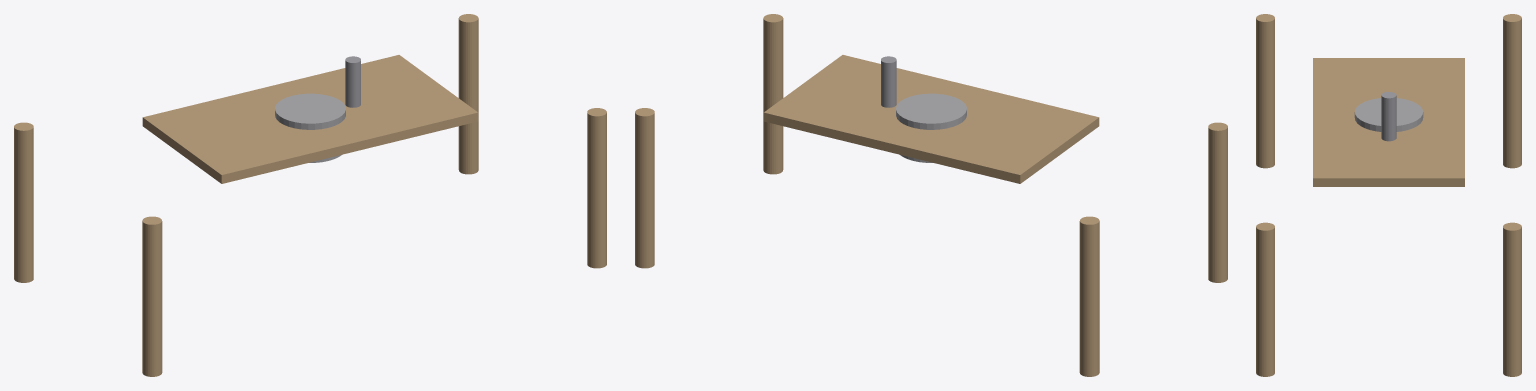
The model's file is mortar_pestle.glb.
3 views of the same model, side by side, from view 1: azimuth 30°, elevation 25°; view 2: azimuth 150°, elevation 25°; view 3: azimuth 270°, elevation 25° (orthographic). The views are drawn at different scales.
Parts seen in each view (by area): view 1: bench_top, bench_leg_-1.3_-0.65, bench_leg_1.3_-0.65, bench_leg_-1.3_0.65, bench_leg_1.3_0.65, mortar, pestle; view 2: bench_top, bench_leg_-1.3_0.65, bench_leg_1.3_0.65, bench_leg_-1.3_-0.65, bench_leg_1.3_-0.65, mortar, pestle; view 3: bench_top, bench_leg_1.3_0.65, bench_leg_1.3_-0.65, bench_leg_-1.3_0.65, bench_leg_-1.3_-0.65, mortar, pestle.
Boxes of the visible parts, left/top/right/bottom form: bench_top: left=142, top=55, right=478, bottom=183; bench_leg_-1.3_-0.65: left=142, top=216, right=162, bottom=376; bench_leg_1.3_-0.65: left=587, top=108, right=606, bottom=268; bench_leg_-1.3_0.65: left=14, top=122, right=33, bottom=282; bench_leg_1.3_0.65: left=458, top=14, right=478, bottom=174; mortar: left=275, top=93, right=345, bottom=162; pestle: left=345, top=56, right=360, bottom=107; bench_top: left=763, top=55, right=1099, bottom=183; bench_leg_-1.3_0.65: left=1079, top=216, right=1099, bottom=376; bench_leg_1.3_0.65: left=635, top=108, right=654, bottom=268; bench_leg_-1.3_-0.65: left=1208, top=122, right=1227, bottom=282; bench_leg_1.3_-0.65: left=763, top=14, right=783, bottom=174; mortar: left=896, top=93, right=966, bottom=162; pestle: left=881, top=56, right=896, bottom=107; bench_top: left=1313, top=58, right=1464, bottom=186; bench_leg_1.3_0.65: left=1503, top=222, right=1521, bottom=376; bench_leg_1.3_-0.65: left=1256, top=222, right=1274, bottom=376; bench_leg_-1.3_0.65: left=1503, top=14, right=1521, bottom=168; bench_leg_-1.3_-0.65: left=1256, top=14, right=1274, bottom=168; mortar: left=1354, top=98, right=1423, bottom=131; pestle: left=1381, top=92, right=1396, bottom=141.
Bounding box in the file's own units: 2.7 × 1.12 × 1.4.
